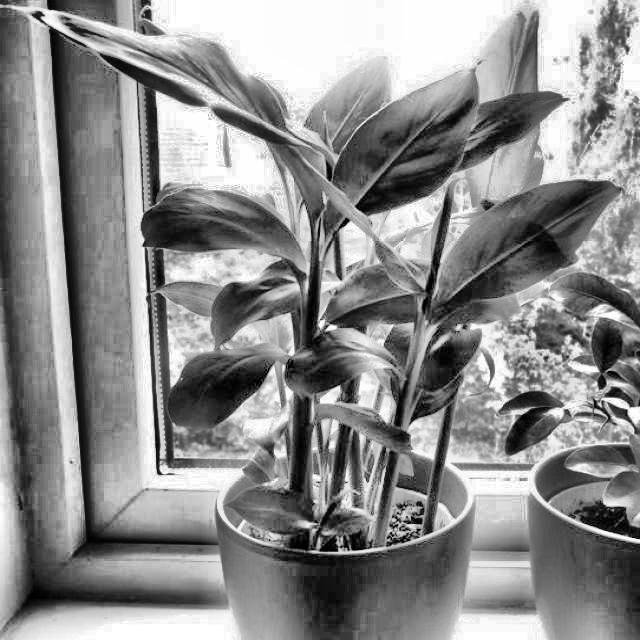plants: (42, 1, 500, 602), (531, 254, 639, 639)
